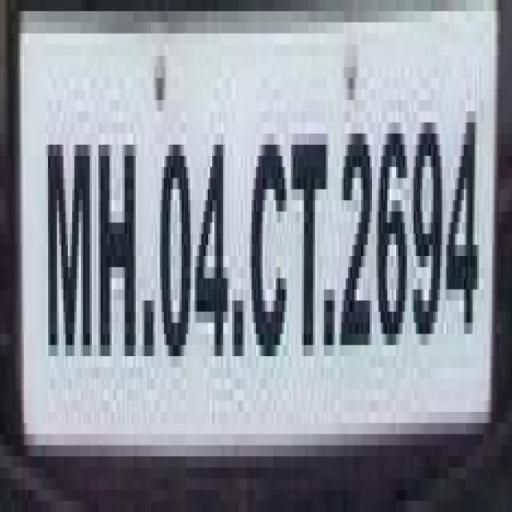number plate: (0, 0, 494, 479)
